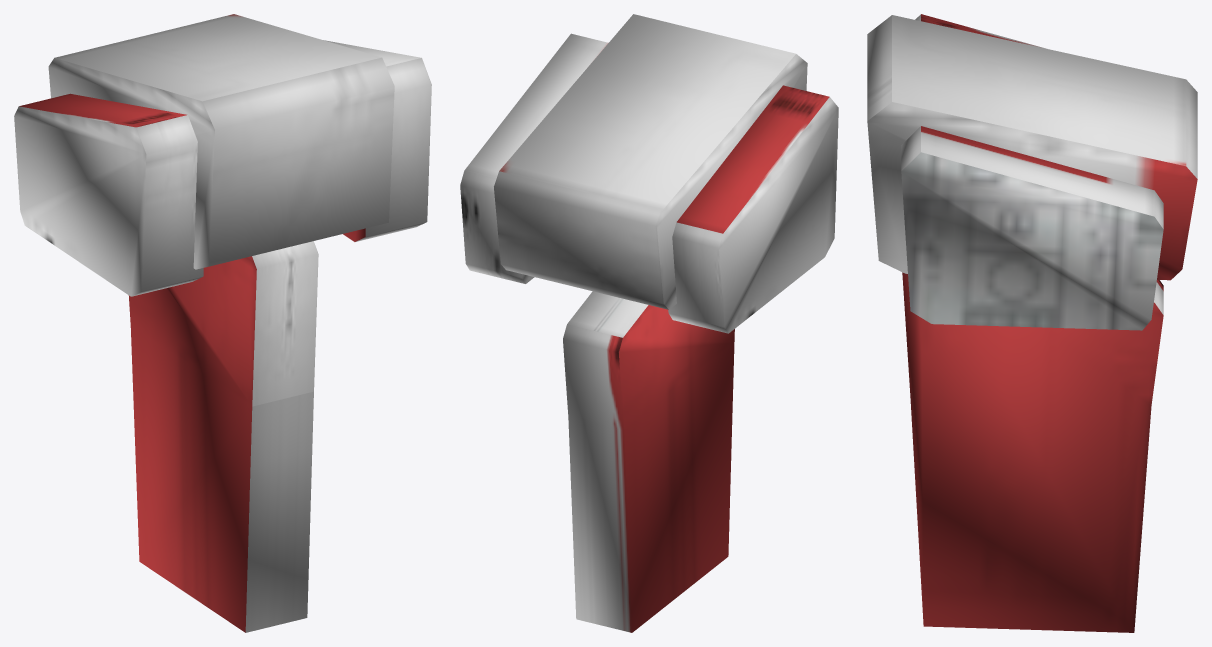
The model's file is weapon01_C.FBX.
3 renders of one model, left to right at view 1: azimuth 30°, elevation 25°; view 2: azimuth 150°, elevation 25°; view 3: azimuth 270°, elevation 25°, orthographic. The views are drawn at different scales.
Parts seen in each view (by area): view 1: weapon01; view 2: weapon01; view 3: weapon01.
Part boxes in pixels (<box>): weapon01: <box>14,14,431,632</box>; weapon01: <box>460,14,838,632</box>; weapon01: <box>867,14,1197,632</box>.
Bounding box in the file's own units: 87.33 × 165 × 88.2.
